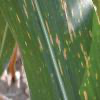Corn Gray leaf spot: (1, 1, 99, 98)
